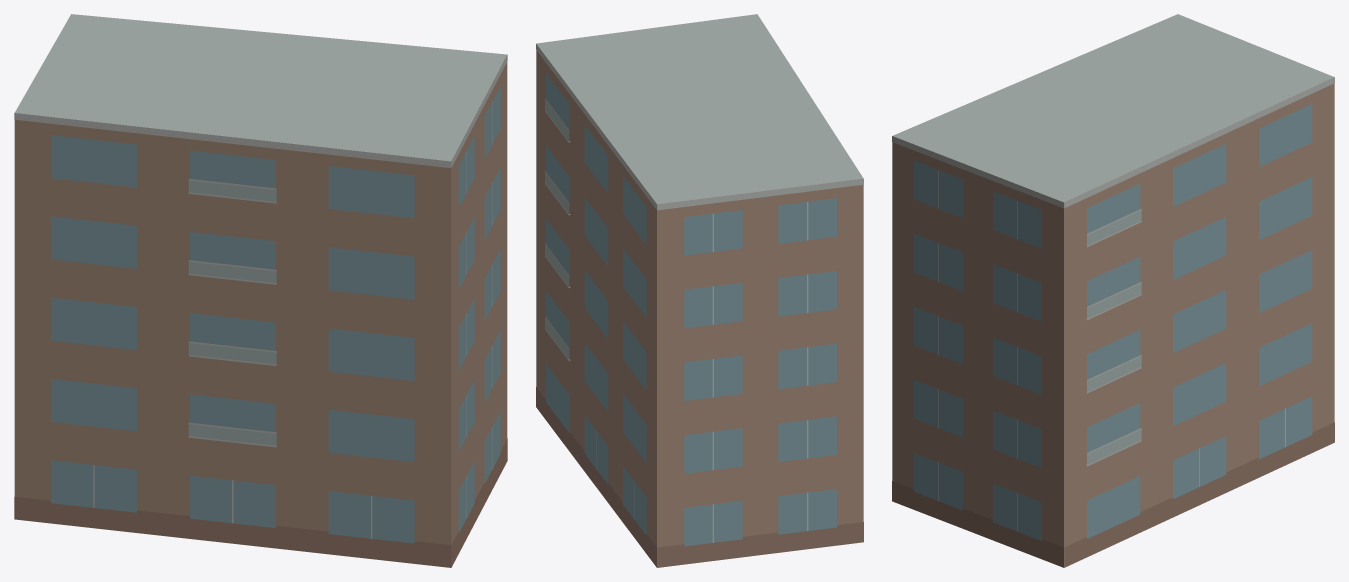
Rendered from survey-upis-32843808.glb.
3 views of the same model, side by side, from view 1: azimuth 30°, elevation 25°; view 2: azimuth 150°, elevation 25°; view 3: azimuth 270°, elevation 25° (orthographic). The views are drawn at different scales.
Visible parts, largest first — view 1: survey-upis-32843808.tmp; view 2: survey-upis-32843808.tmp; view 3: survey-upis-32843808.tmp.
Part boxes in pixels (x1=…): survey-upis-32843808.tmp: x1=14, y1=14, x2=507, y2=567; survey-upis-32843808.tmp: x1=536, y1=14, x2=863, y2=567; survey-upis-32843808.tmp: x1=892, y1=14, x2=1334, y2=567.
Size of the model in its own units: 16.38 by 14.8 by 16.26.
